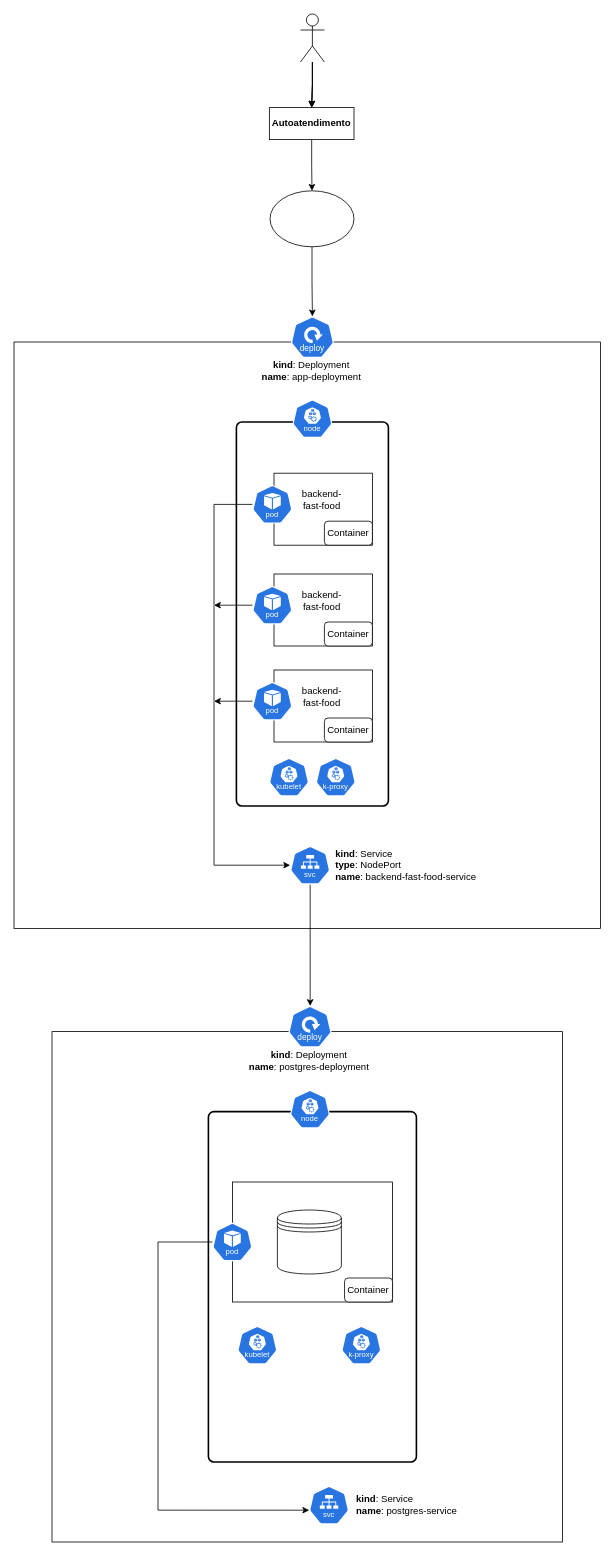
This 614x1556 diagram has some shape labels left out. Here are the shapes that lost their labels. From the top down, the centre of each, then its label:
At [312,37]: "Cliente".
At [311,218]: "Internet".
At [309,1241]: "Postgres".
